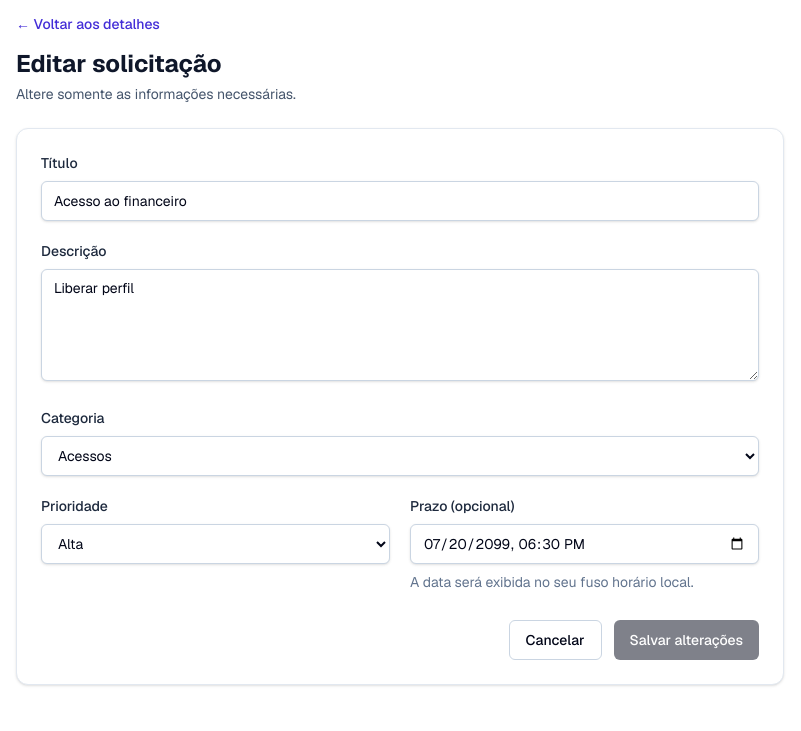
Test: edição de solicitação › bloqueia prazo passado alterado
Replace the text in the field labelled "Prazo (opcional)" with "2020-01-01T10:00" at (584, 544), box [410,524,759,564]
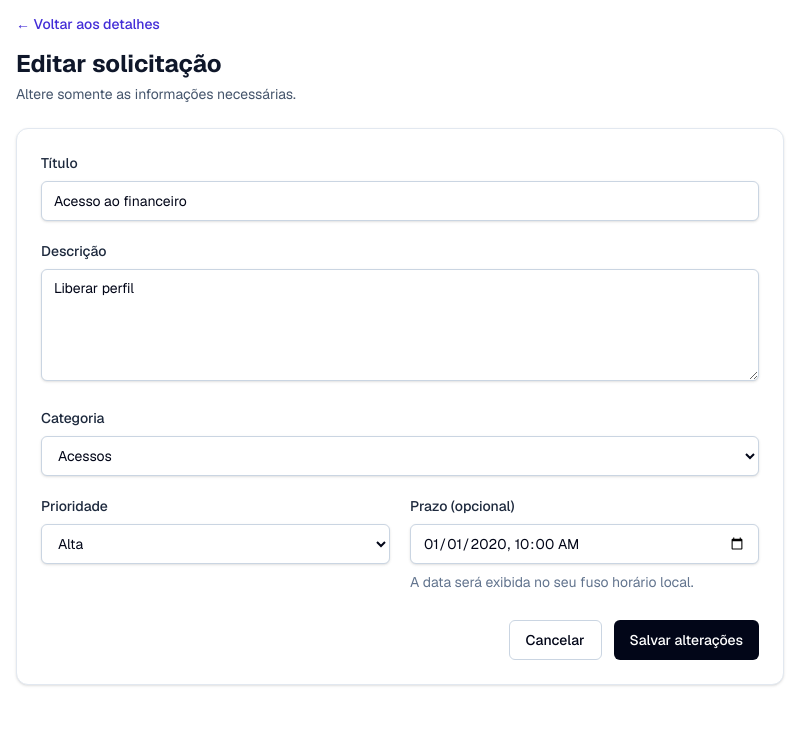
Click the button "Salvar alterações" at (686, 640), box [614,620,759,660]
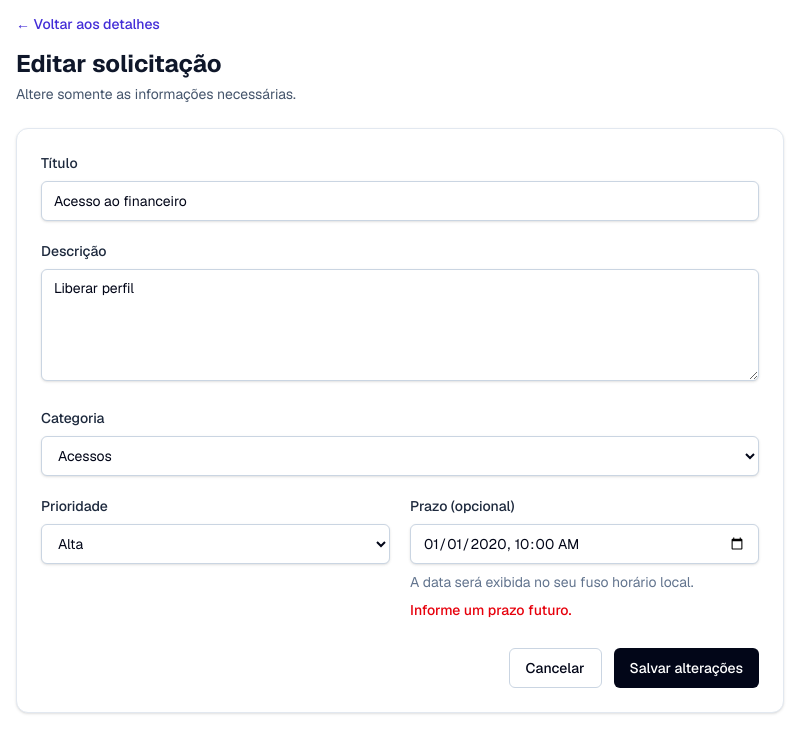
Now the text "Informe um prazo futuro." is shown, box [410,601,572,619]
